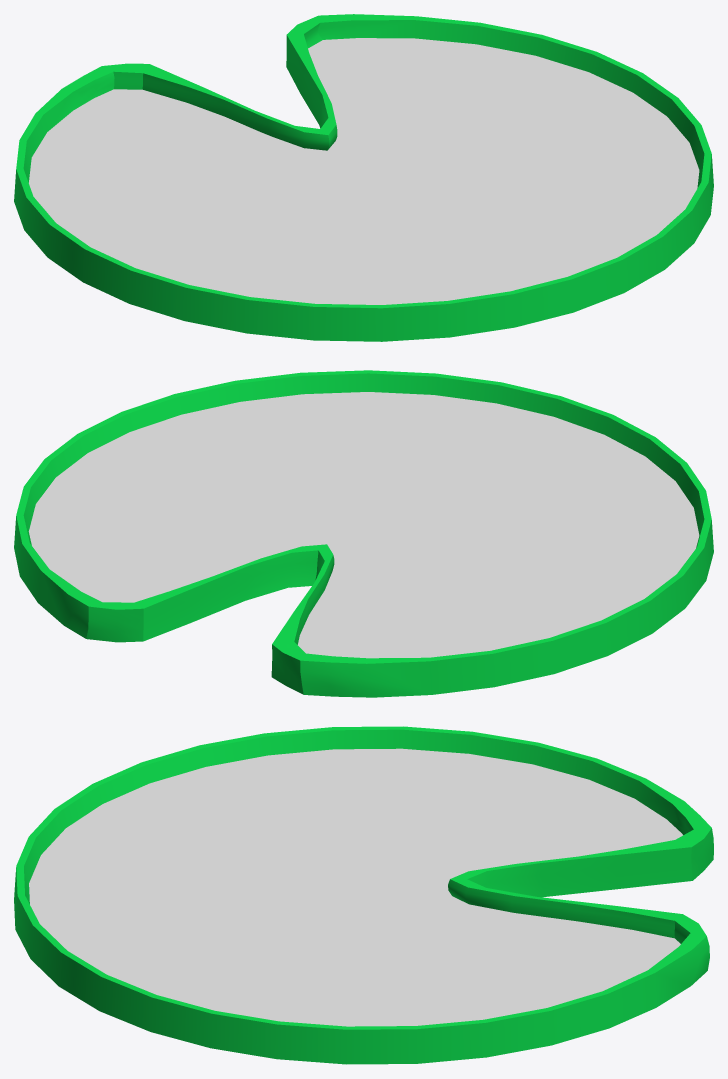
The model's file is Lilly Pad.fbx.
3 views of the same model, one above another, from view 1: azimuth 30°, elevation 25°; view 2: azimuth 150°, elevation 25°; view 3: azimuth 270°, elevation 25° (orthographic). The views are drawn at different scales.
Parts seen in each view (by area): view 1: Cylinder; view 2: Cylinder; view 3: Cylinder.
Boxes of the visible parts, left/top/right/bottom form: Cylinder: left=14, top=14, right=713, bottom=341; Cylinder: left=14, top=370, right=713, bottom=697; Cylinder: left=14, top=726, right=713, bottom=1064.
Size of the model in its own units: 194 by 10.29 by 188.
